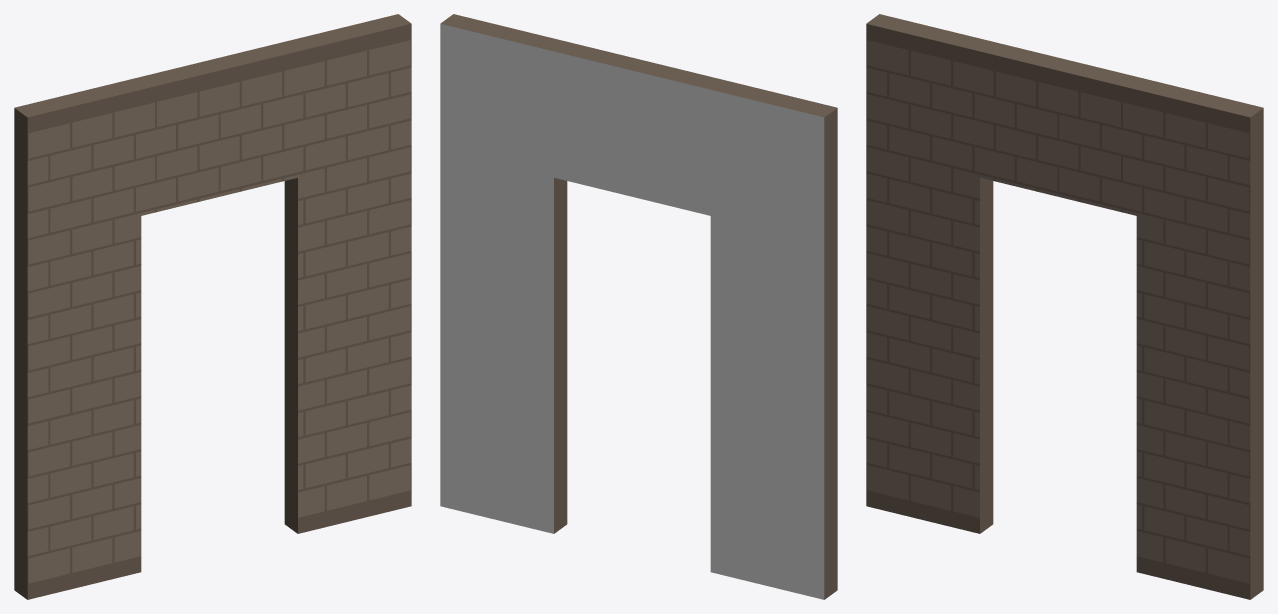
File: Wall1_C10_02.fbx
3 renders of one model, left to right at view 1: azimuth 30°, elevation 25°; view 2: azimuth 150°, elevation 25°; view 3: azimuth 330°, elevation 25°, orthographic.
Parts seen in each view (by area): view 1: Wall1_C10_02; view 2: Wall1_C10_02; view 3: Wall1_C10_02.
Part boxes in pixels (bbox=[...]): Wall1_C10_02: bbox=[14, 14, 411, 599]; Wall1_C10_02: bbox=[440, 14, 837, 599]; Wall1_C10_02: bbox=[866, 14, 1263, 599].
Bounding box in the file's own units: 250 × 300 × 15.
